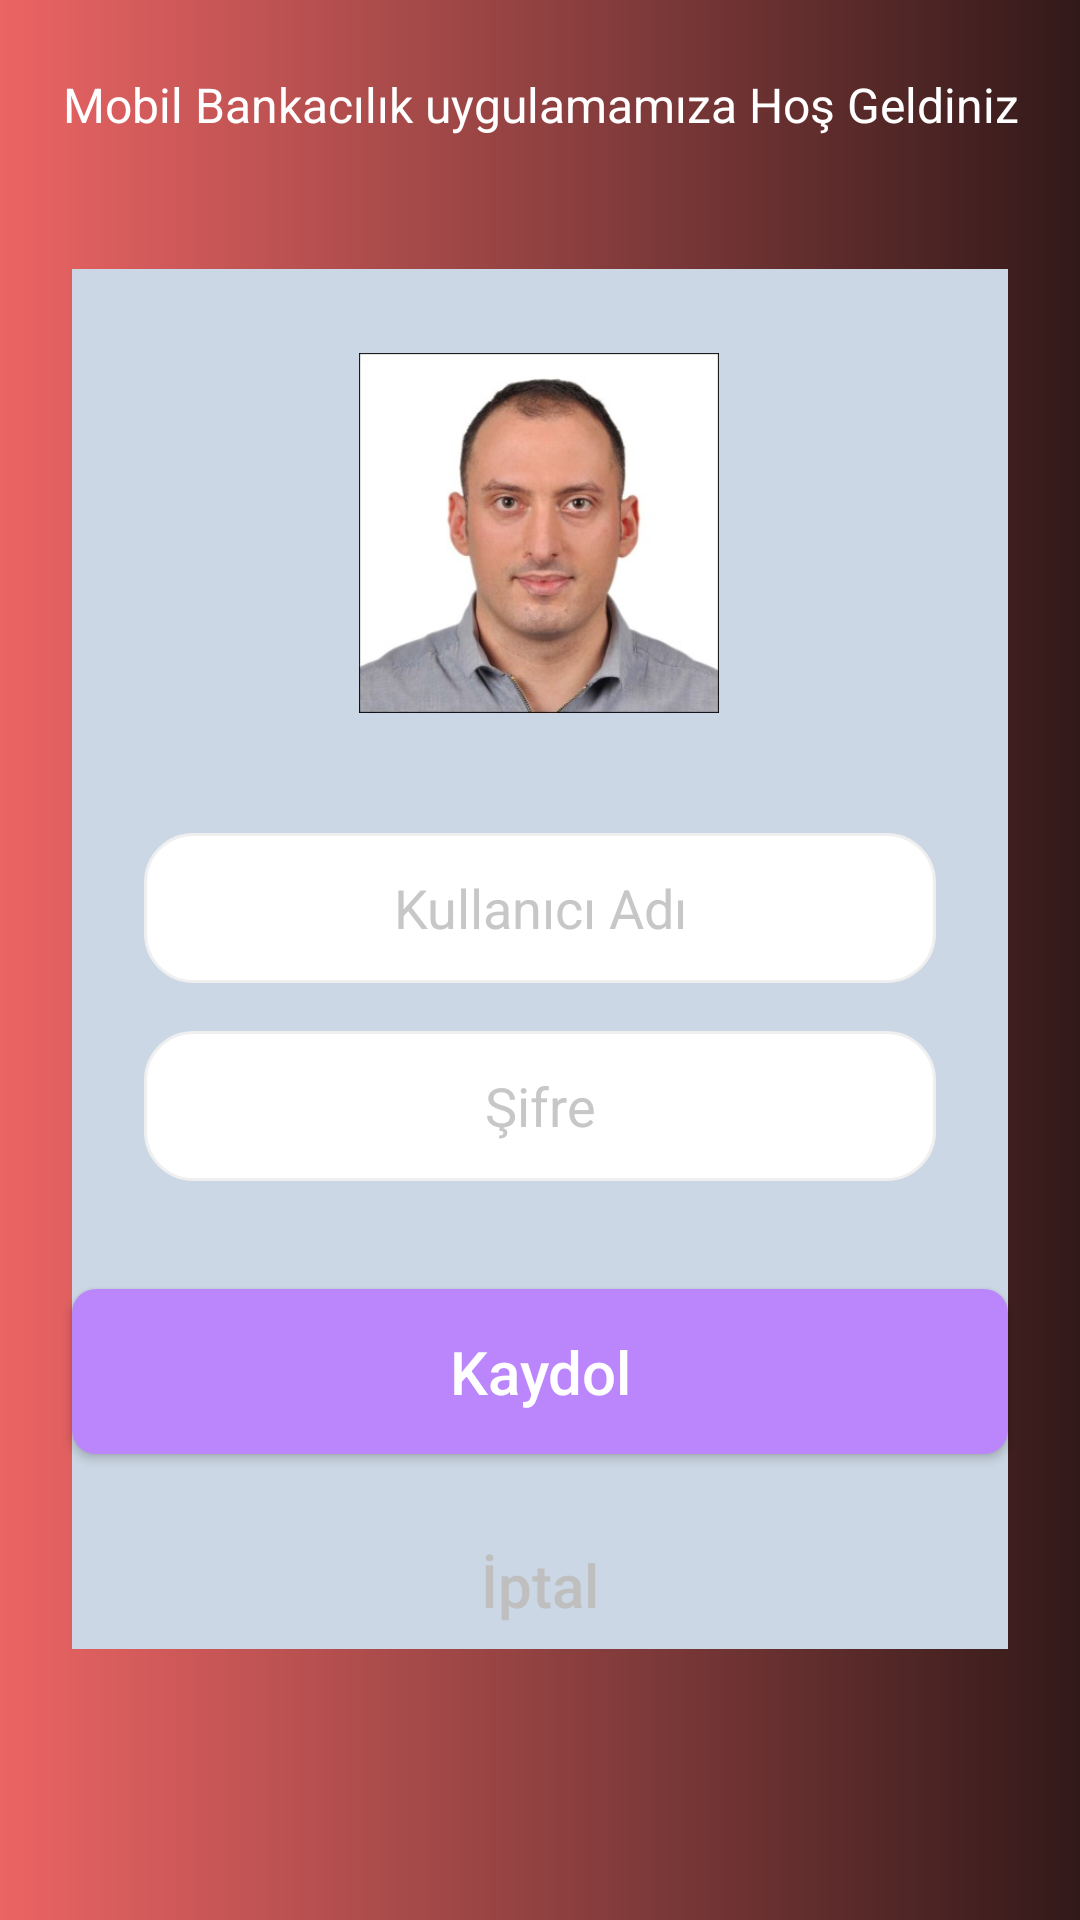

Where icons sit on this 1080w x 1920h app screen, as [x1=x1, y1=y1, x2=x2, y2=y2]:
Kullanıcı Resmi: [x1=359, y1=353, x2=719, y2=713]
